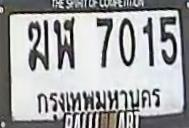0: (118, 17, 135, 66)
1: (142, 17, 154, 67)
5: (159, 16, 177, 65)
7: (95, 17, 113, 68)
A06: (26, 19, 48, 70)
A42: (53, 16, 75, 68)
BKK: (32, 83, 163, 113)
